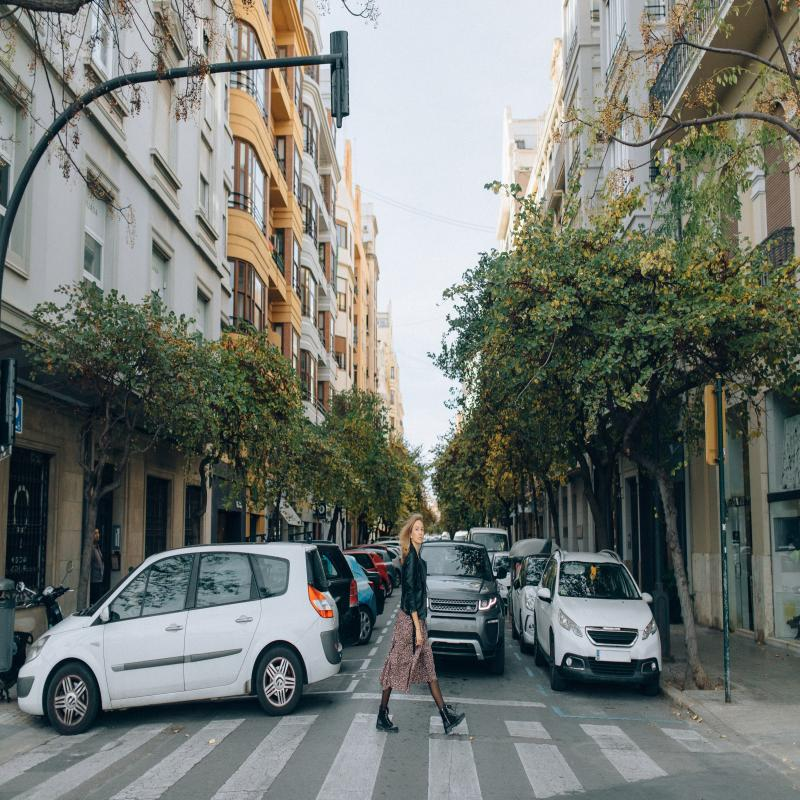car: (19, 489, 352, 725), (538, 549, 664, 691), (409, 525, 505, 687), (509, 549, 579, 641)
